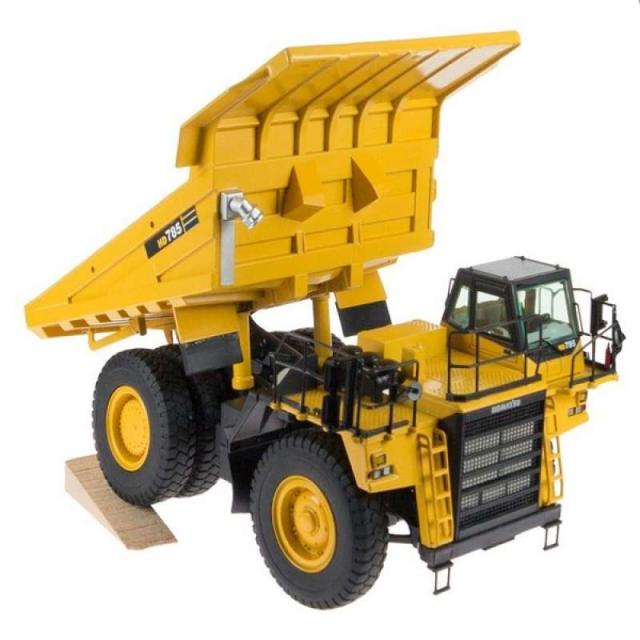dump_truck: (53, 22, 594, 620)
